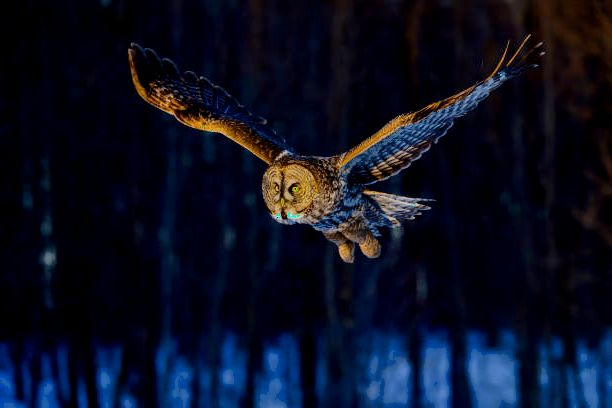Bird: (120, 28, 549, 263)
